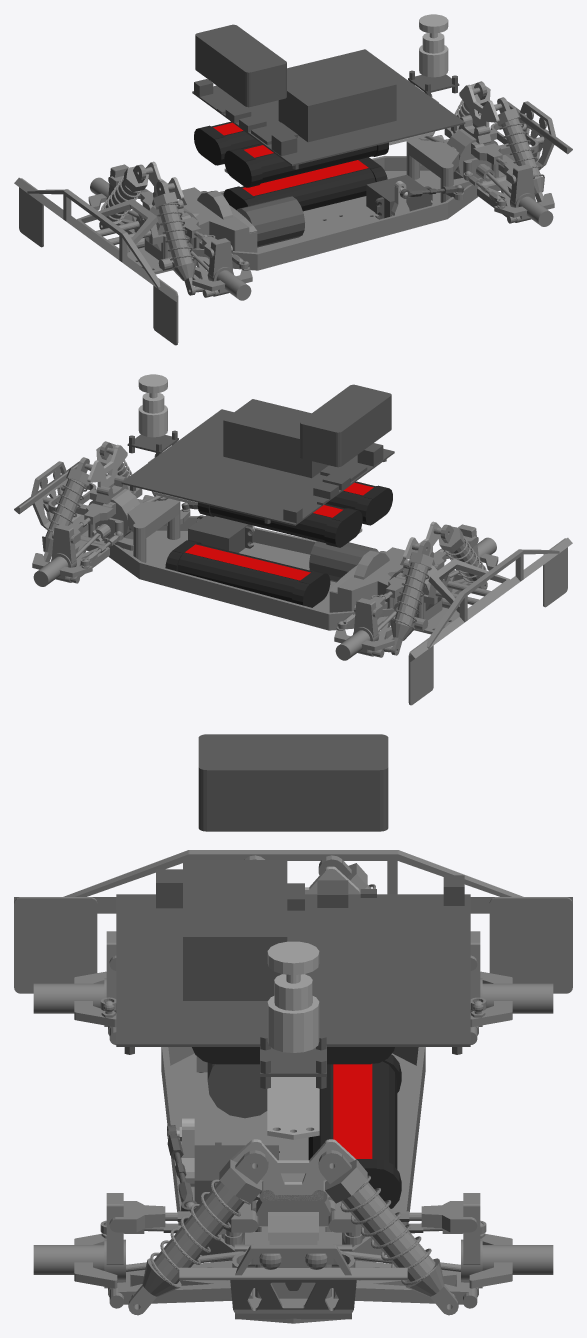
The model's file is mushr_base_tx2_core.dae.
3 renders of one model, top to bottom at view 1: azimuth 30°, elevation 25°; view 2: azimuth 150°, elevation 25°; view 3: azimuth 270°, elevation 25°, orthographic. The views are drawn at different scales.
Visible parts, largest first — view 1: Racecar_Chassis, Racecar_Jetson_Tx2, Racecar_Usb_Hub, Racecar_Battery_Chassis, Racecar_Battery_Chassis_Foundation_Right, Racecar_Battery_Chassis_Foundation_Left, Racecar_Camera_Stand, Racecar_Servo_Motor_Body, Racecar_Front_Racecar_Chassis_Gearbox_Spring_Plate, Racecar_Imu, Racecar_Back_Racecar_Chassis_Gearbox_Spring_Plate, Racecar_Servo_Motor_Arm; view 2: Racecar_Chassis, Racecar_Jetson_Tx2, Racecar_Battery_Chassis, Racecar_Usb_Hub, Racecar_Battery_Chassis_Foundation_Left, Racecar_Servo_Motor_Body, Racecar_Camera_Stand, Racecar_Battery_Chassis_Foundation_Right, Racecar_Front_Racecar_Chassis_Gearbox_Spring_Plate, Racecar_Imu, Racecar_Back_Racecar_Chassis_Gearbox_Spring_Plate; view 3: Racecar_Chassis, Racecar_Jetson_Tx2, Racecar_Usb_Hub, Racecar_Battery_Chassis, Racecar_Camera_Stand, Racecar_Crossbar_Body, Racecar_Front_Racecar_Chassis_Gearbox_Spring_Plate, Racecar_Imu, Racecar_Servo_Motor_Body, Racecar_Battery_Chassis_Foundation_Left, Racecar_Battery_Chassis_Foundation_Right, Racecar_Servo_Motor_Arm_Link (+1 smaller).
Part boxes in pixels (box(x1,y1,x2,y2)): Racecar_Chassis: box(14, 81, 572, 345); Racecar_Jetson_Tx2: box(192, 49, 465, 169); Racecar_Usb_Hub: box(195, 24, 286, 107); Racecar_Battery_Chassis: box(223, 157, 387, 211); Racecar_Battery_Chassis_Foundation_Right: box(224, 142, 388, 187); Racecar_Battery_Chassis_Foundation_Left: box(194, 121, 261, 165); Racecar_Camera_Stand: box(419, 14, 448, 77); Racecar_Servo_Motor_Body: box(366, 174, 432, 219); Racecar_Front_Racecar_Chassis_Gearbox_Spring_Plate: box(459, 84, 499, 127); Racecar_Imu: box(408, 70, 459, 96); Racecar_Back_Racecar_Chassis_Gearbox_Spring_Plate: box(145, 161, 183, 199); Racecar_Servo_Motor_Arm: box(391, 181, 409, 215); Racecar_Chassis: box(14, 441, 572, 705); Racecar_Jetson_Tx2: box(121, 399, 394, 525); Racecar_Battery_Chassis: box(165, 540, 330, 607); Racecar_Usb_Hub: box(300, 384, 391, 467); Racecar_Battery_Chassis_Foundation_Left: box(197, 502, 362, 547); Racecar_Servo_Motor_Body: box(188, 515, 253, 552); Racecar_Camera_Stand: box(138, 374, 167, 437); Racecar_Battery_Chassis_Foundation_Right: box(326, 481, 392, 525); Racecar_Front_Racecar_Chassis_Gearbox_Spring_Plate: box(87, 444, 127, 487); Racecar_Imu: box(127, 430, 178, 456); Racecar_Back_Racecar_Chassis_Gearbox_Spring_Plate: box(403, 521, 441, 559); Racecar_Chassis: box(14, 850, 572, 1323); Racecar_Jetson_Tx2: box(116, 860, 470, 1054); Racecar_Usb_Hub: box(198, 734, 388, 831); Racecar_Battery_Chassis: box(308, 1054, 401, 1208); Racecar_Camera_Stand: box(267, 941, 319, 1052); Racecar_Crossbar_Body: box(267, 1077, 319, 1139); Racecar_Front_Racecar_Chassis_Gearbox_Spring_Plate: box(228, 1139, 358, 1200); Racecar_Imu: box(260, 1033, 326, 1088); Racecar_Servo_Motor_Body: box(194, 1142, 278, 1204); Racecar_Battery_Chassis_Foundation_Left: box(327, 1047, 394, 1064); Racecar_Battery_Chassis_Foundation_Right: box(192, 1047, 259, 1064); Racecar_Servo_Motor_Arm_Link: box(167, 1125, 197, 1212).
Size of the model in its own units: 0.4399 by 0.268 by 0.1927.
